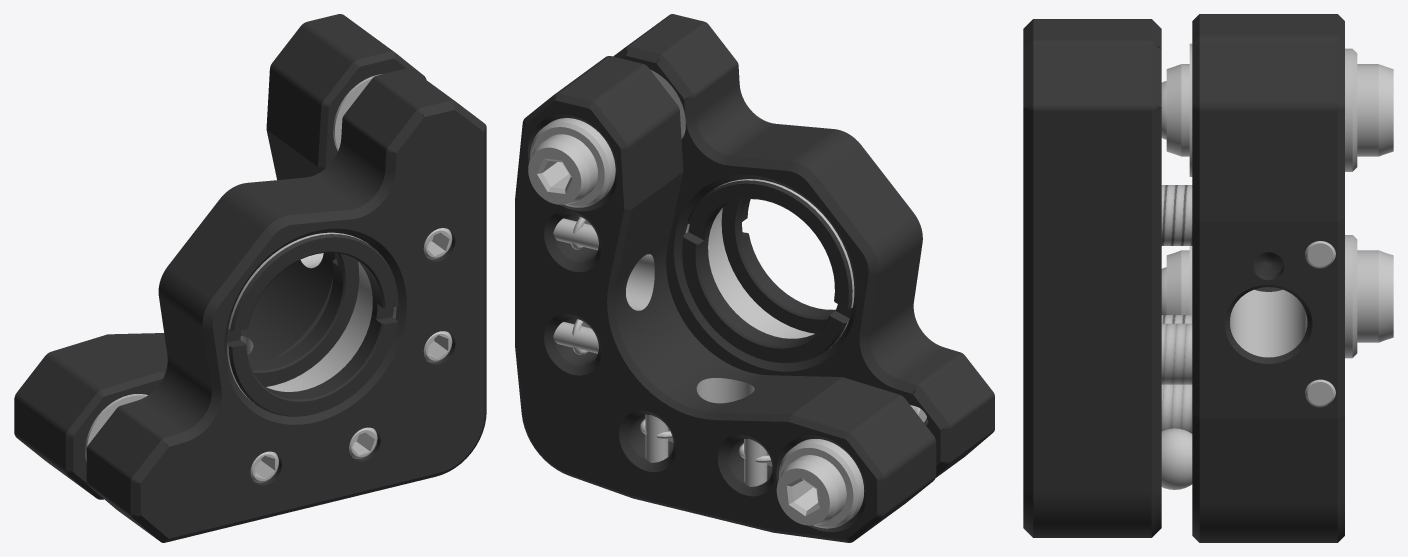
The picture shows the model from 3 angles, left to right: view 1: azimuth 30°, elevation 25°; view 2: azimuth 150°, elevation 25°; view 3: azimuth 270°, elevation 25°; orthographic projection. The views are drawn at different scales.
Parts seen in each view (by area): view 1: plate, base, retaining_ring; view 2: base, plate, retaining_ring, adjuster_x, adjuster_y; view 3: base, plate, adjuster_y, adjuster_x.
Part boxes in pixels (bbox=[...]): plate: bbox=[86, 68, 486, 542]; base: bbox=[14, 14, 426, 499]; retaining_ring: bbox=[227, 232, 398, 416]; base: bbox=[515, 56, 936, 542]; plate: bbox=[613, 14, 994, 477]; retaining_ring: bbox=[721, 199, 835, 333]; adjuster_x: bbox=[776, 455, 846, 525]; adjuster_y: bbox=[528, 134, 597, 204]; base: bbox=[1161, 14, 1357, 542]; plate: bbox=[1023, 19, 1161, 537]; adjuster_y: bbox=[1161, 64, 1393, 156]; adjuster_x: bbox=[1161, 250, 1393, 342].
Size of the model in its own units: 0.0295 by 0.0295 by 0.0191.
3 materials, 1 textured.
